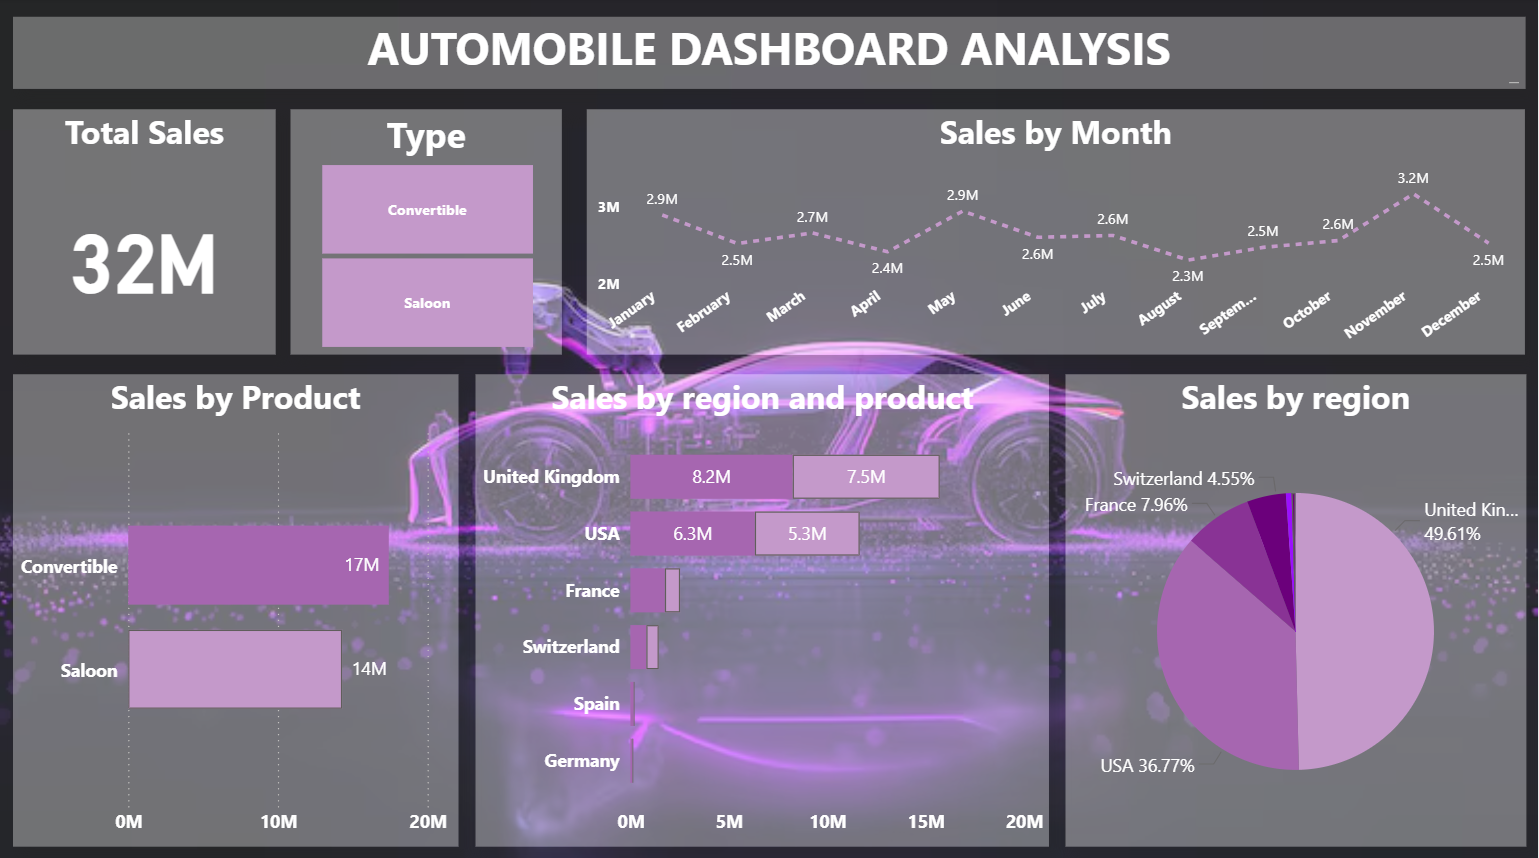

Layout of this report page (visuals, bound fields, positions):
{"tool":"powerbi","page":{"name":"Page 1","canvas":[1280,720],"ordinal":0},"visuals":[{"type":"textbox","title":"AUTOMOBILE DASHBOARD ANALYSIS","box":[12.3,15.1,1257.2,60.3],"z":0},{"type":"card","title":"Total Sales","fields":{"Values":["Automobile.Total Sales"]},"box":[12.9,92.9,218.6,204.3],"z":1000},{"type":"slicer","title":"Type","fields":{"Values":["Automobile.VehicleType"]},"box":[242.9,92.9,225.7,204.3],"z":2000},{"type":"lineChart","title":" Sales by Month","fields":{"Category":["Automobile.InvoiceDate.Variation.Date Hierarchy.Month"],"Y":["Automobile.Total Sales"]},"box":[490,92.9,780,204.3],"z":3000},{"type":"barChart","title":"Sales by Product","fields":{"Y":["Automobile.Total Sales"],"Category":["Automobile.VehicleType"]},"box":[12.9,312.9,370,392.9],"z":4000},{"type":"barChart","title":"Sales by region and product","fields":{"Category":["Automobile.CountryName"],"Y":["Automobile.Total Sales"],"Series":["Automobile.VehicleType"]},"box":[397.1,312.9,477.1,392.9],"z":5000},{"type":"pieChart","title":"Sales by region","fields":{"Category":["Automobile.CountryName"],"Y":["Automobile.Total Sales"]},"box":[887.1,312.9,382.9,392.9],"z":6000}]}

Visuals, with their boxes in screenshot pixels (x1, y1, x2, y2), scaled from the page's 1280x720 canvas onto the 1539x858 screenshot:
"AUTOMOBILE DASHBOARD ANALYSIS" textbox: rect(15, 18, 1526, 90)
"Total Sales" card: rect(16, 111, 278, 354)
"Type" slicer: rect(292, 111, 563, 354)
" Sales by Month" lineChart: rect(589, 111, 1527, 354)
"Sales by Product" barChart: rect(16, 373, 460, 841)
"Sales by region and product" barChart: rect(477, 373, 1051, 841)
"Sales by region" pieChart: rect(1067, 373, 1527, 841)
